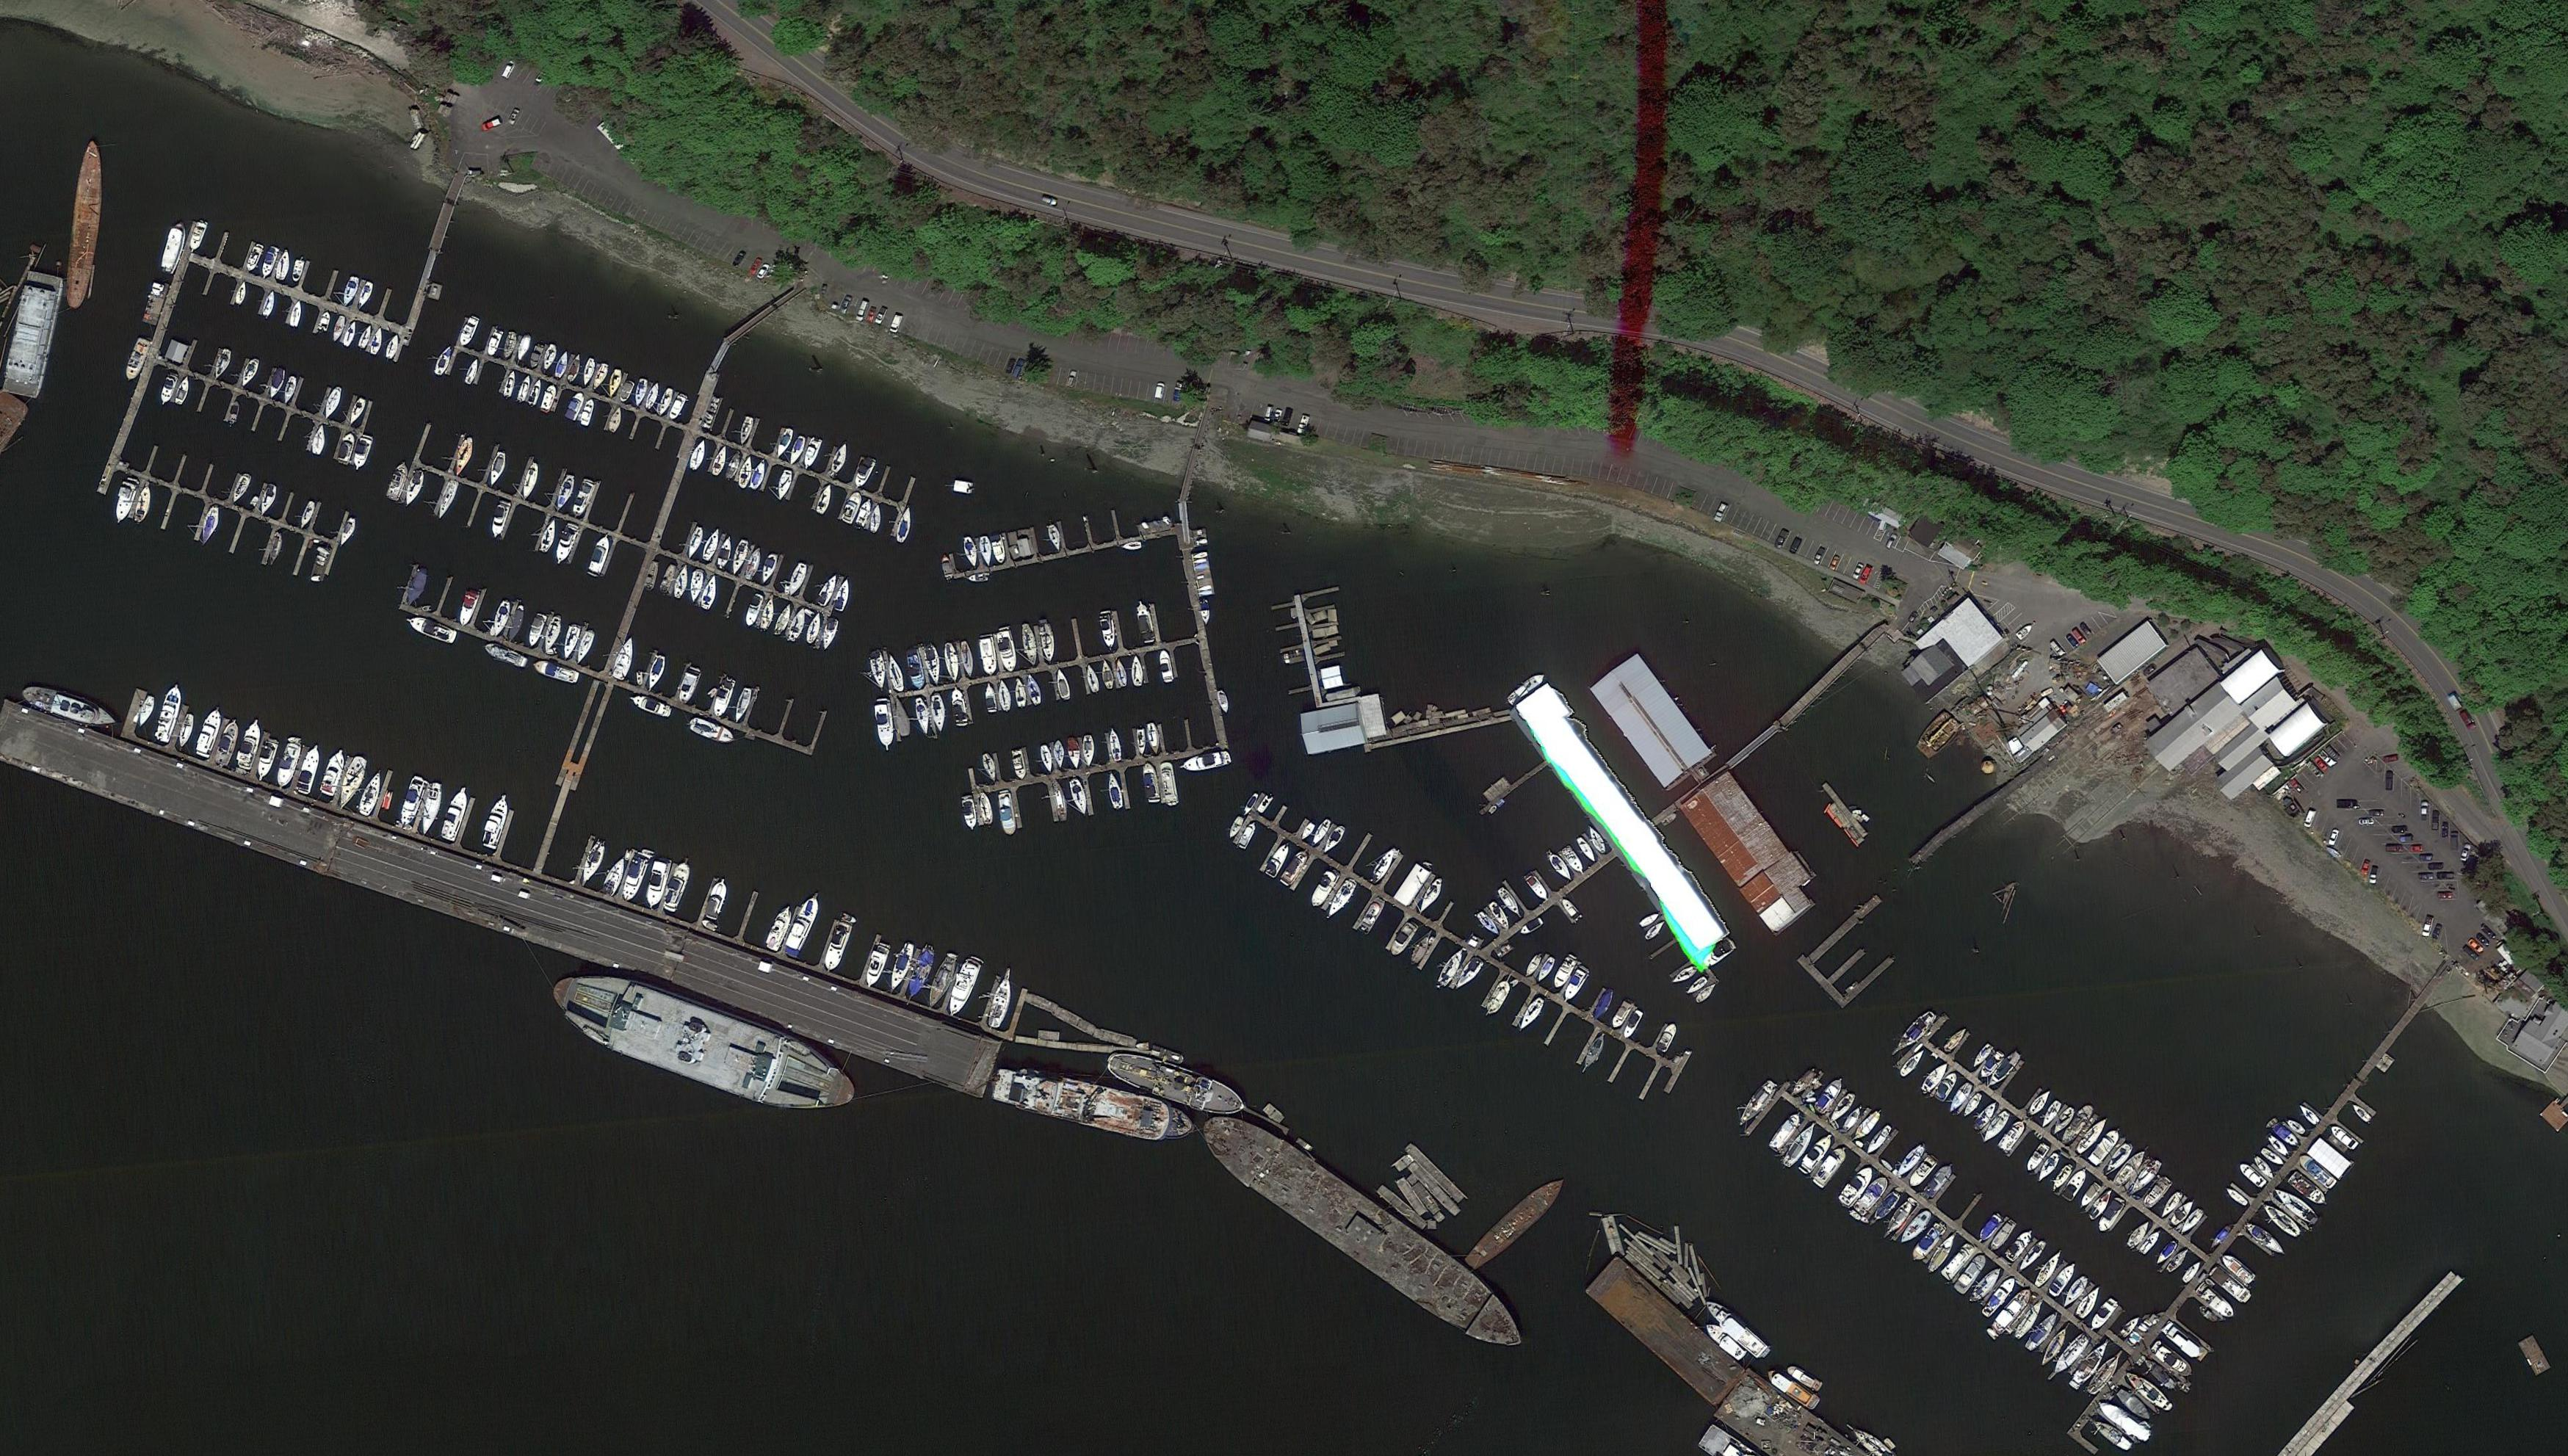harbor: (1508, 555, 1979, 994), (1217, 772, 1707, 1116), (1744, 1054, 2154, 1401), (540, 823, 1032, 1042), (1892, 1008, 2233, 1289), (120, 687, 550, 880), (2226, 998, 2445, 1246), (884, 596, 1206, 742), (397, 420, 663, 589), (2088, 1216, 2282, 1444), (99, 434, 351, 587), (2275, 1267, 2475, 1456), (446, 317, 698, 460), (180, 224, 416, 365), (967, 714, 1228, 841), (688, 400, 919, 541), (146, 331, 374, 465), (646, 513, 847, 650), (399, 562, 616, 680), (614, 640, 829, 758), (1466, 818, 1619, 950), (1298, 679, 1517, 760), (947, 508, 1148, 580), (1268, 585, 1362, 710), (1471, 749, 1549, 818)
ship: (1189, 1091, 1543, 1370), (538, 954, 871, 1135), (1584, 1253, 1748, 1410), (988, 1063, 1199, 1149), (1101, 1040, 1254, 1128), (1460, 1167, 1575, 1276), (0, 268, 65, 400), (62, 139, 109, 312), (18, 679, 122, 737), (1700, 1294, 1774, 1363), (1402, 1139, 1469, 1206), (1407, 1162, 1462, 1218), (2095, 1396, 2155, 1445), (1885, 1007, 1938, 1061), (1912, 707, 1965, 761), (1764, 1364, 1822, 1412), (783, 894, 824, 961), (2042, 1331, 2092, 1385), (1374, 1181, 1429, 1230), (2122, 1368, 2175, 1415), (1734, 1077, 1780, 1130), (1989, 1285, 2035, 1336), (2085, 1347, 2129, 1398), (2071, 1338, 2113, 1391), (945, 959, 982, 1019), (2148, 1338, 2198, 1382), (335, 753, 370, 814), (2159, 1319, 2208, 1363), (2272, 1183, 2321, 1227), (926, 952, 961, 1012), (1780, 1119, 1820, 1170), (153, 682, 187, 744), (986, 966, 1018, 1029), (478, 793, 513, 850), (155, 220, 190, 277), (439, 784, 473, 843), (1979, 1273, 2019, 1320), (397, 774, 430, 830), (1704, 1320, 1748, 1363), (1506, 668, 1550, 710), (2259, 1200, 2305, 1241), (2023, 1308, 2062, 1356), (414, 781, 446, 839), (1838, 1162, 1877, 1209), (235, 717, 268, 772), (404, 612, 459, 645), (2296, 1151, 2340, 1192), (2288, 1170, 2332, 1211), (2058, 1102, 2097, 1148), (2011, 1297, 2049, 1343), (1854, 1172, 1892, 1218), (194, 705, 226, 760), (661, 860, 693, 915), (2194, 1281, 2236, 1322), (2090, 1415, 2134, 1454), (1967, 1264, 2005, 1308), (2111, 1146, 2150, 1190), (1924, 1230, 1961, 1276), (1811, 1144, 1848, 1190), (1799, 1130, 1836, 1176), (1767, 1109, 1804, 1155), (644, 855, 674, 911), (905, 947, 937, 999), (1984, 1049, 2023, 1091), (1896, 1206, 1935, 1248), (1938, 1241, 1977, 1283), (887, 940, 917, 994), (2517, 1333, 2554, 1377), (2037, 1326, 2074, 1370), (1952, 1252, 1989, 1296), (1910, 1222, 1947, 1266), (2127, 1156, 2164, 1200), (2243, 1220, 2288, 1257), (317, 747, 349, 799), (109, 476, 141, 527), (686, 716, 737, 747), (621, 851, 651, 904), (822, 922, 852, 975), (764, 904, 795, 954), (1880, 1199, 1915, 1243), (1326, 876, 1360, 922), (295, 744, 325, 795), (579, 837, 608, 888), (2115, 1385, 2154, 1424), (2086, 1126, 2124, 1167), (1393, 1176, 1429, 1218), (213, 717, 243, 767), (273, 742, 303, 791), (610, 633, 640, 682), (1309, 867, 1342, 911), (141, 279, 169, 330), (1452, 954, 1487, 994), (2032, 1248, 2067, 1289), (2074, 1116, 2109, 1156), (356, 770, 386, 818), (122, 337, 152, 384), (533, 657, 580, 687), (1279, 846, 1312, 888), (481, 642, 531, 670), (550, 522, 580, 568), (2058, 1273, 2092, 1313), (2046, 1259, 2079, 1299), (2094, 1195, 2127, 1236), (1813, 1075, 1847, 1116), (1436, 947, 1467, 989), (1415, 876, 1446, 918), (704, 876, 732, 924), (2219, 1252, 2256, 1287), (1979, 1109, 2012, 1148), (2072, 1281, 2106, 1320), (1894, 1142, 1928, 1181), (2101, 1140, 2134, 1179), (1785, 1361, 1824, 1394), (862, 943, 891, 989), (1559, 964, 1591, 1005), (1483, 977, 1515, 1017), (1388, 920, 1420, 961), (2143, 1357, 2178, 1393), (1922, 1162, 1956, 1199), (1356, 897, 1388, 936), (1580, 1031, 1610, 1072), (1406, 929, 1436, 969), (1369, 846, 1399, 887), (254, 739, 280, 784), (601, 855, 630, 897), (384, 460, 413, 502), (1411, 1183, 1444, 1218), (1997, 1118, 2028, 1155), (2088, 1296, 2120, 1333), (2016, 1237, 2048, 1274), (1907, 1155, 1938, 1192), (2085, 1186, 2116, 1223), (1852, 1107, 1884, 1144), (1182, 751, 1233, 774), (630, 695, 674, 721), (1517, 994, 1547, 1033), (875, 698, 896, 753), (1702, 938, 1736, 971), (1919, 1059, 1951, 1095), (2141, 1176, 2173, 1211), (711, 677, 737, 719), (1825, 1091, 1857, 1126), (570, 478, 596, 520), (1871, 1188, 1901, 1225), (1265, 841, 1293, 880), (402, 568, 430, 606), (587, 532, 612, 576), (452, 435, 476, 479), (1896, 1047, 1928, 1081), (2270, 1119, 2303, 1151), (1496, 885, 1526, 920), (1988, 1218, 2018, 1253), (1864, 1123, 1894, 1158), (2062, 1165, 2090, 1202), (198, 504, 222, 546), (891, 696, 915, 739), (436, 479, 460, 522), (997, 629, 1019, 673), (1545, 851, 1575, 885), (2005, 1229, 2035, 1262), (1788, 1066, 1818, 1100), (644, 654, 668, 695), (677, 666, 702, 707), (307, 545, 332, 585), (519, 462, 543, 502), (402, 469, 427, 509), (541, 615, 566, 656), (1550, 955, 1579, 991), (1947, 1081, 1975, 1116), (487, 501, 513, 538), (997, 790, 1018, 836), (1019, 622, 1041, 668), (1134, 599, 1155, 645), (485, 449, 510, 488), (489, 599, 513, 638), (2236, 1160, 2268, 1190), (2125, 1218, 2154, 1252), (228, 471, 254, 506), (1159, 761, 1180, 806), (1141, 761, 1162, 806), (1037, 620, 1058, 665), (979, 633, 1000, 677), (732, 686, 755, 726), (351, 434, 374, 474), (554, 474, 577, 515), (457, 589, 480, 629), (573, 628, 596, 668), (524, 612, 549, 649), (1979, 1049, 2007, 1081), (2027, 1088, 2055, 1119), (2049, 1105, 2078, 1137), (2035, 1151, 2064, 1183), (132, 485, 155, 524), (894, 506, 917, 545), (728, 538, 751, 576), (698, 573, 721, 612), (1487, 899, 1513, 932), (1584, 823, 1610, 857), (1524, 871, 1550, 904), (2025, 1140, 2051, 1174), (2159, 1188, 2185, 1222), (1321, 823, 1347, 857), (457, 314, 481, 349), (430, 344, 455, 379), (924, 643, 944, 687), (734, 455, 757, 492), (787, 562, 810, 599), (743, 592, 765, 629), (2330, 1123, 2360, 1151), (1561, 844, 1587, 876), (1977, 1213, 2004, 1244), (2169, 1197, 2196, 1229), (1621, 1008, 1646, 1042), (1610, 998, 1635, 1031), (1935, 1070, 1960, 1103), (1656, 1021, 1681, 1054), (870, 649, 889, 691), (907, 649, 926, 691), (1097, 610, 1118, 649), (506, 603, 527, 642), (258, 483, 280, 518), (157, 372, 180, 407), (817, 573, 840, 608), (787, 606, 810, 642), (829, 441, 852, 476), (801, 435, 824, 471), (700, 527, 723, 562), (1942, 1024, 1968, 1054), (1974, 1100, 2000, 1130), (2037, 1100, 2064, 1130), (2178, 1206, 2205, 1236), (1069, 777, 1088, 818), (929, 693, 949, 733), (1049, 783, 1069, 823), (176, 712, 198, 749), (1309, 818, 1333, 850), (323, 384, 344, 421), (670, 564, 691, 601), (561, 624, 582, 661), (1593, 987, 1616, 1021), (240, 356, 263, 390), (841, 490, 864, 524), (854, 457, 877, 490), (773, 469, 795, 502), (684, 569, 707, 603), (914, 696, 933, 735), (887, 654, 907, 693), (2154, 1239, 2180, 1267), (2138, 1229, 2164, 1257), (136, 695, 157, 730), (259, 245, 280, 280), (944, 642, 961, 684), (340, 275, 362, 310), (337, 432, 358, 467), (213, 347, 235, 383), (2266, 1133, 2295, 1160), (832, 578, 854, 613), (540, 518, 561, 553), (684, 525, 705, 561), (743, 546, 764, 582), (758, 552, 780, 587), (1476, 910, 1501, 940), (2166, 1246, 2191, 1276), (2252, 1153, 2277, 1183), (266, 531, 286, 568), (951, 686, 968, 726), (266, 367, 287, 400), (688, 439, 709, 472), (709, 444, 730, 478), (804, 612, 825, 645), (773, 603, 794, 636), (815, 483, 836, 516), (787, 434, 808, 467), (774, 427, 795, 460), (748, 457, 769, 490), (2049, 1163, 2074, 1192), (2078, 1181, 2102, 1209), (2208, 1223, 2233, 1252), (1961, 1091, 1984, 1121), (1575, 836, 1598, 865), (564, 391, 587, 421), (1106, 772, 1123, 811), (961, 534, 981, 569), (1238, 820, 1259, 851), (273, 250, 295, 282), (658, 562, 679, 594), (538, 383, 559, 414), (961, 795, 979, 832), (2118, 1313, 2143, 1340), (1106, 726, 1123, 763), (2224, 1185, 2251, 1209), (245, 241, 265, 275), (189, 220, 208, 254), (310, 423, 330, 457), (605, 367, 624, 400), (820, 617, 840, 650), (758, 598, 778, 631), (716, 536, 735, 569), (1670, 964, 1698, 987), (1145, 721, 1162, 756), (1157, 649, 1175, 684), (981, 753, 1000, 784), (339, 516, 358, 548), (298, 499, 317, 531), (959, 640, 975, 679), (540, 342, 559, 374), (725, 449, 744, 481), (855, 497, 875, 529), (737, 414, 757, 446), (1693, 982, 1718, 1007), (1642, 918, 1667, 943), (1559, 897, 1584, 922), (2296, 1102, 2321, 1126), (1972, 1042, 1995, 1068), (2180, 1259, 2203, 1285), (2259, 1146, 2286, 1169), (1536, 955, 1557, 984), (1226, 814, 1247, 843), (1841, 1105, 1863, 1133), (1065, 737, 1083, 770), (977, 791, 995, 825), (175, 374, 192, 407), (1025, 672, 1042, 705), (989, 532, 1007, 566), (513, 333, 533, 363), (631, 379, 651, 409), (656, 388, 676, 418), (1263, 1102, 1288, 1125), (2349, 1102, 2374, 1125), (1519, 917, 1545, 938), (1011, 749, 1028, 781), (1081, 735, 1097, 770), (280, 375, 298, 407), (997, 677, 1012, 712), (982, 682, 1000, 714), (1099, 659, 1116, 691), (1129, 656, 1146, 687), (487, 328, 504, 360), (580, 356, 598, 388), (668, 393, 688, 421), (979, 534, 995, 568), (369, 326, 386, 356), (356, 280, 374, 310), (349, 397, 367, 427), (642, 561, 660, 591), (501, 331, 519, 361), (566, 353, 584, 383), (593, 361, 610, 391), (527, 377, 545, 407), (607, 405, 624, 435), (1686, 975, 1709, 998), (1392, 1153, 1416, 1174), (1524, 954, 1543, 980), (1039, 744, 1055, 776), (1055, 668, 1071, 700), (1012, 677, 1028, 709), (1085, 663, 1101, 695), (287, 300, 305, 328), (384, 333, 402, 361), (554, 351, 571, 379), (464, 358, 481, 386), (644, 383, 661, 411), (868, 504, 885, 532), (2014, 620, 2037, 642), (2196, 1304, 2221, 1324), (1242, 791, 1261, 816), (261, 289, 277, 319), (332, 314, 347, 344), (517, 374, 533, 404), (1048, 524, 1064, 553), (233, 280, 250, 307), (342, 321, 360, 347), (356, 324, 374, 351), (1215, 687, 1233, 714), (580, 398, 596, 427), (1637, 911, 1661, 929), (1053, 740, 1067, 770), (226, 398, 242, 425), (529, 344, 545, 370), (503, 370, 519, 397), (1256, 795, 1275, 816), (2286, 1118, 2307, 1137), (1300, 820, 1318, 843), (1115, 659, 1129, 687), (289, 259, 305, 284), (619, 379, 635, 404), (940, 553, 954, 580), (317, 310, 333, 333), (1136, 728, 1148, 756), (838, 910, 857, 925), (1201, 599, 1212, 626), (967, 571, 989, 582), (381, 791, 393, 811), (1122, 541, 1143, 552), (707, 686, 720, 700), (637, 670, 646, 686), (249, 495, 259, 508)
